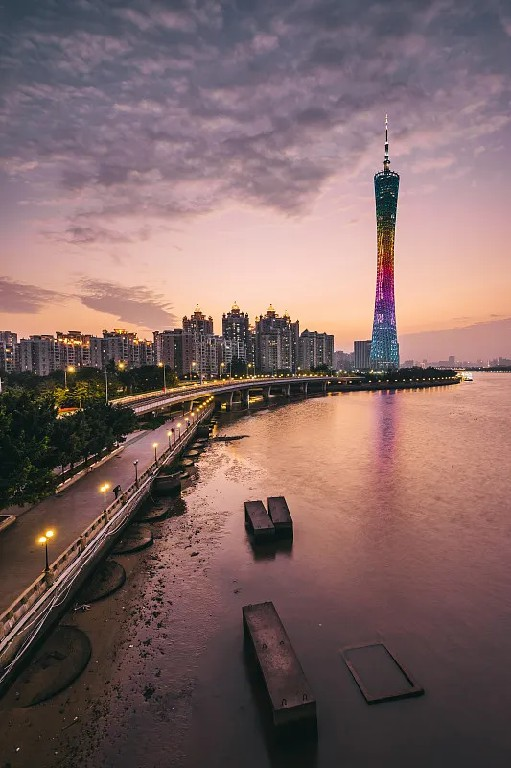Canton: (368, 116, 405, 372)
